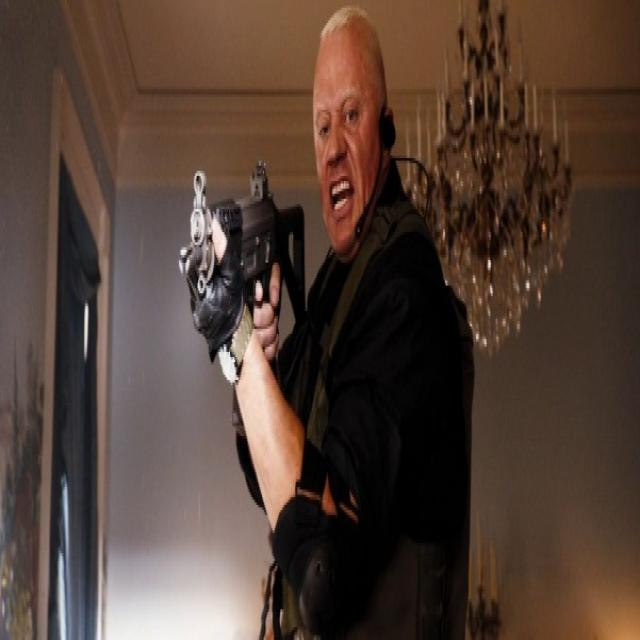rifle: (178, 155, 312, 350)
